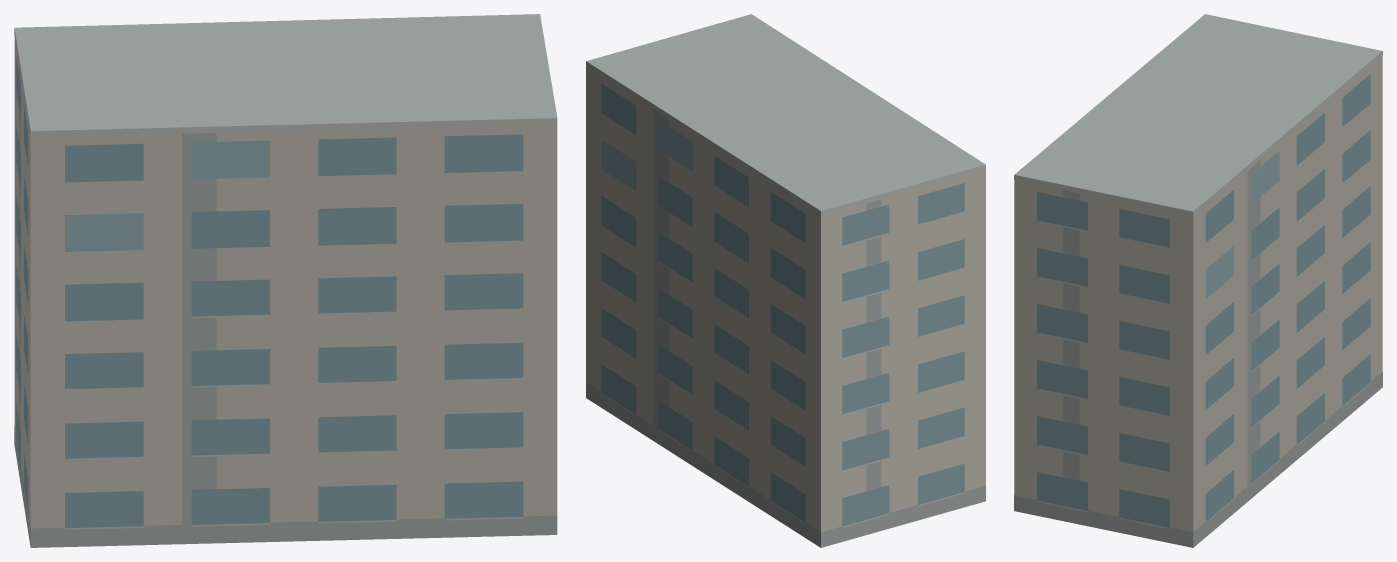
Rendered from survey-upis-32886658.glb.
3 views of the same model, side by side, from view 1: azimuth 30°, elevation 25°; view 2: azimuth 150°, elevation 25°; view 3: azimuth 270°, elevation 25° (orthographic). The views are drawn at different scales.
Visible parts, largest first — view 1: survey-upis-32886658.tmp; view 2: survey-upis-32886658.tmp; view 3: survey-upis-32886658.tmp.
Part boxes in pixels (x1,y1,x2,y2): survey-upis-32886658.tmp: (14, 14, 557, 547); survey-upis-32886658.tmp: (586, 14, 985, 547); survey-upis-32886658.tmp: (1014, 14, 1382, 547).
Size of the model in its own units: 19.93 by 15.8 by 15.71.
